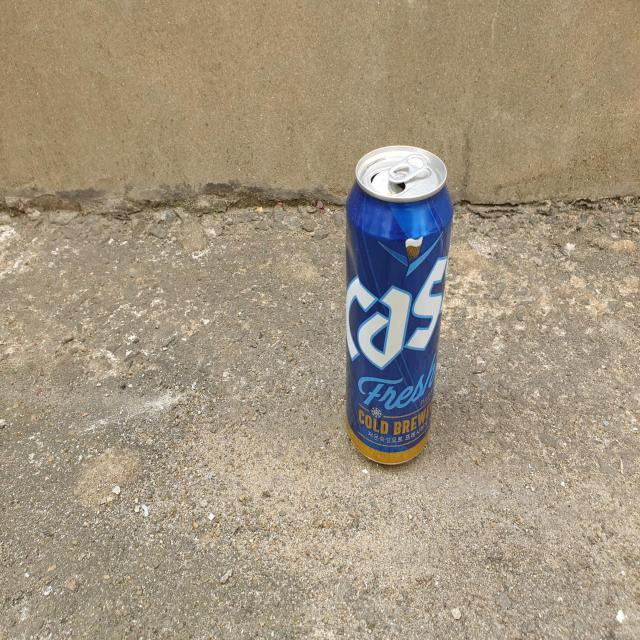can: (346, 145, 454, 465)
